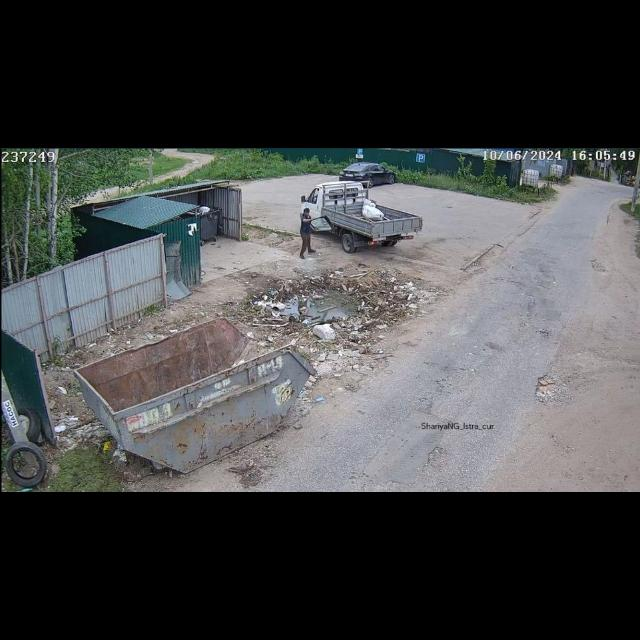Trash_Can_Empty: (73, 317, 317, 473)
Trash_Can_Full: (190, 204, 220, 240)
